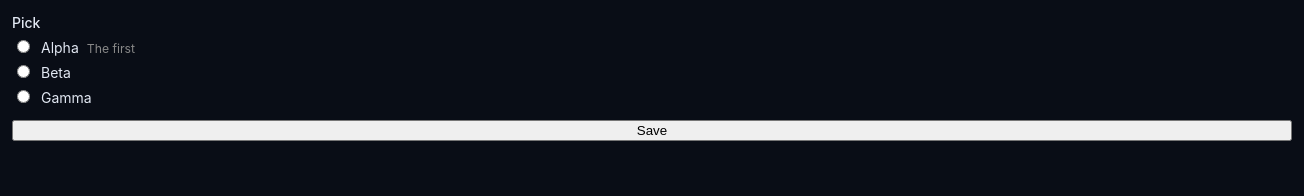
it: choice: preview layout (§5.6/§12.3) › preview markdown shows BELOW the options at compact width
The image size is (1304, 196).
Focus the radio button labelled "Beta" at (24, 72), box top-left (17, 65), bottom-right (30, 78)
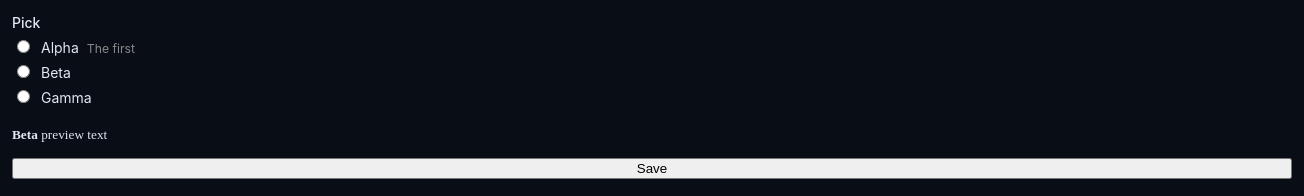
Expected: the element showing "Beta preview text" is shown, top-left (12, 127), bottom-right (107, 142)
